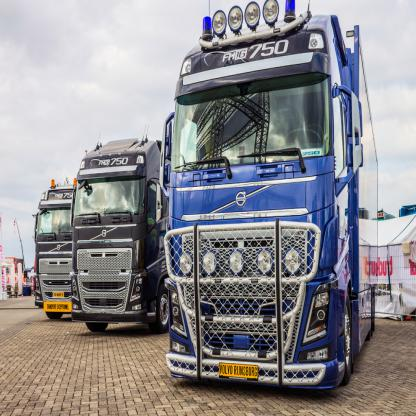Truck: (139, 17, 384, 406), (70, 125, 168, 334), (32, 178, 83, 322), (21, 266, 36, 297)
